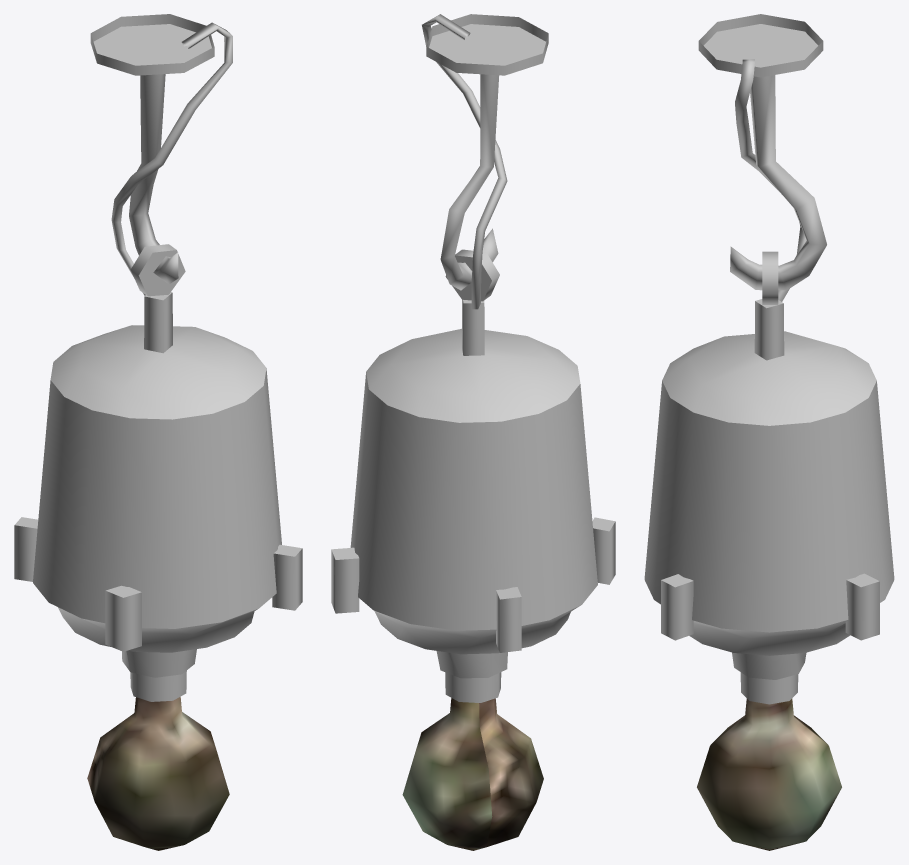
Rendered from Lamp_interior_B.fbx.
The picture shows the model from 3 angles, left to right: view 1: azimuth 30°, elevation 25°; view 2: azimuth 150°, elevation 25°; view 3: azimuth 270°, elevation 25°; orthographic projection.
Visible parts, largest first — view 1: Lamp_interior_B; view 2: Lamp_interior_B; view 3: Lamp_interior_B.
Boxes of the visible parts, x1,y1,x2,y2 form: Lamp_interior_B: [14, 14, 302, 850]; Lamp_interior_B: [331, 14, 615, 850]; Lamp_interior_B: [644, 14, 894, 850].
Size of what is drawn, in the model's own units: 0.113 by 0.4045 by 0.113.
